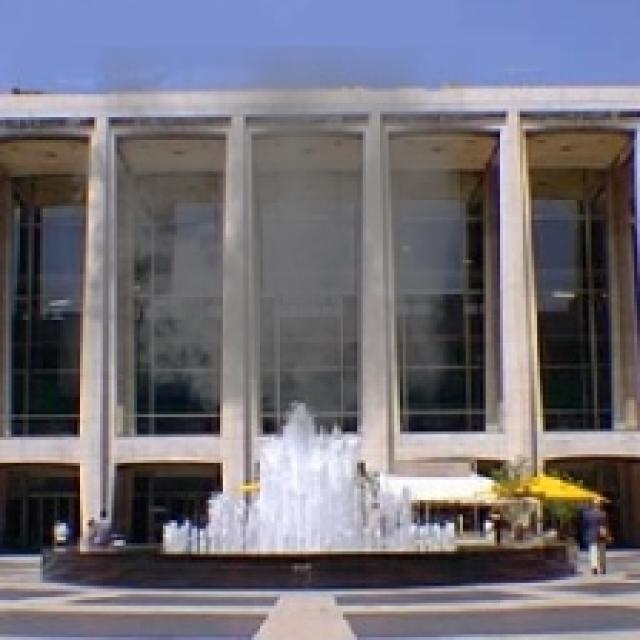Smoke: (57, 46, 474, 466)
